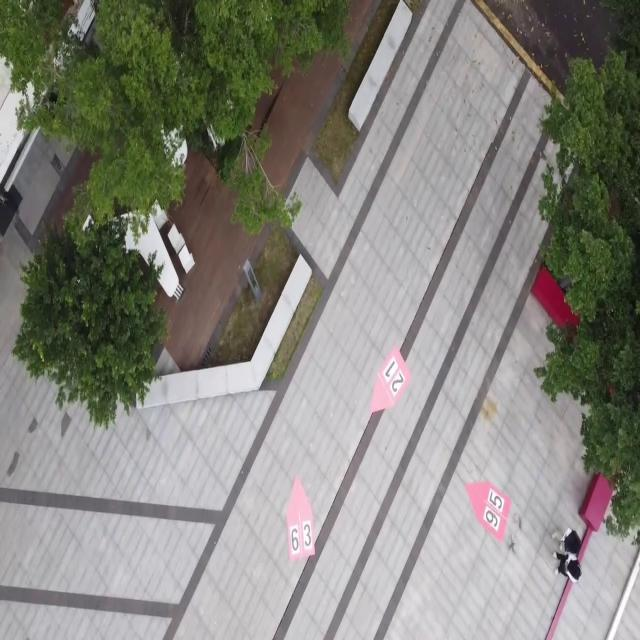-sign-: (277, 468, 322, 562), (460, 465, 514, 541), (366, 346, 414, 416)
